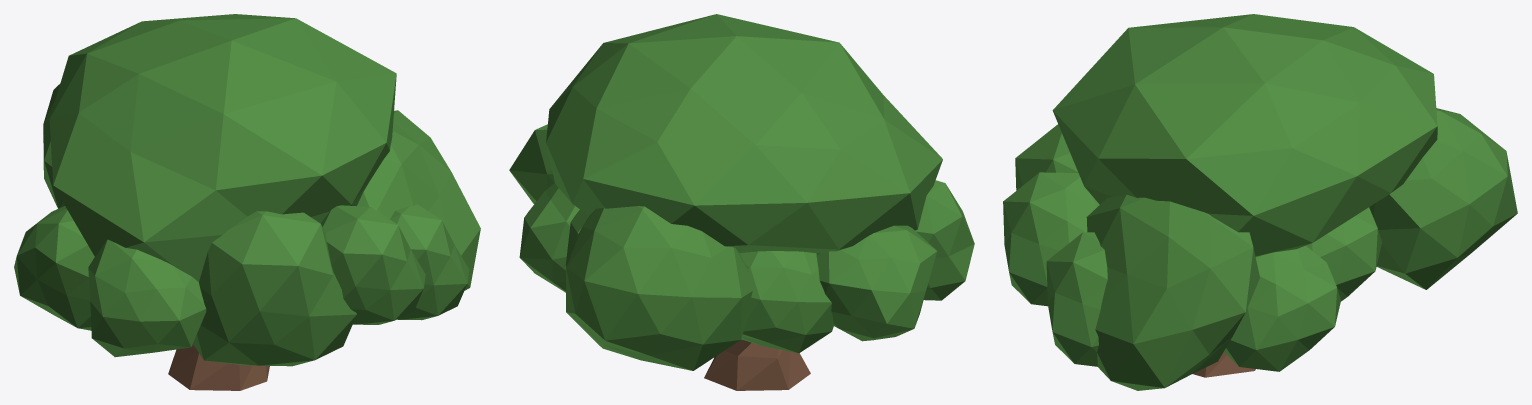
The model's file is Bush_Full.FBX.
The picture shows the model from 3 angles, left to right: view 1: azimuth 30°, elevation 25°; view 2: azimuth 150°, elevation 25°; view 3: azimuth 270°, elevation 25°; orthographic projection. The views are drawn at different scales.
Visible parts, largest first — view 1: GeoSphere024, GeoSphere025, GeoSphere020, GeoSphere029, GeoSphere030, GeoSphere021, GeoSphere026, Cylinder004, GeoSphere023; view 2: GeoSphere024, GeoSphere023, GeoSphere021, GeoSphere022, GeoSphere020, GeoSphere027, Cylinder004, GeoSphere030, GeoSphere028; view 3: GeoSphere024, GeoSphere030, GeoSphere023, GeoSphere027, GeoSphere029, GeoSphere026, GeoSphere028, GeoSphere025, Cylinder004.
Boxes of the visible parts, x1,y1,x2,y2 form: GeoSphere024: (49, 14, 396, 281); GeoSphere025: (193, 211, 356, 366); GeoSphere020: (88, 239, 206, 357); GeoSphere029: (321, 205, 425, 324); GeoSphere030: (357, 110, 480, 290); GeoSphere021: (14, 206, 94, 330); GeoSphere026: (390, 204, 469, 320); Cylinder004: (168, 344, 269, 390); GeoSphere023: (43, 84, 60, 208); GeoSphere024: (546, 14, 942, 253); GeoSphere023: (566, 206, 752, 370); GeoSphere021: (816, 225, 937, 341); GeoSphere022: (739, 251, 833, 353); GeoSphere020: (915, 180, 974, 300); GeoSphere027: (519, 183, 579, 292); Cylinder004: (704, 339, 810, 390); GeoSphere030: (509, 124, 554, 203); GeoSphere028: (565, 209, 589, 265); GeoSphere024: (1052, 14, 1437, 256); GeoSphere030: (1086, 194, 1259, 390); GeoSphere023: (1369, 108, 1517, 289); GeoSphere027: (1224, 245, 1340, 371); GeoSphere029: (1003, 172, 1099, 306); GeoSphere026: (1046, 232, 1107, 366); GeoSphere028: (1306, 207, 1381, 301); GeoSphere025: (1015, 124, 1078, 190); Cylinder004: (1193, 352, 1255, 377).
Bounding box in the file's own units: 16.53 × 12.71 × 17.68.
